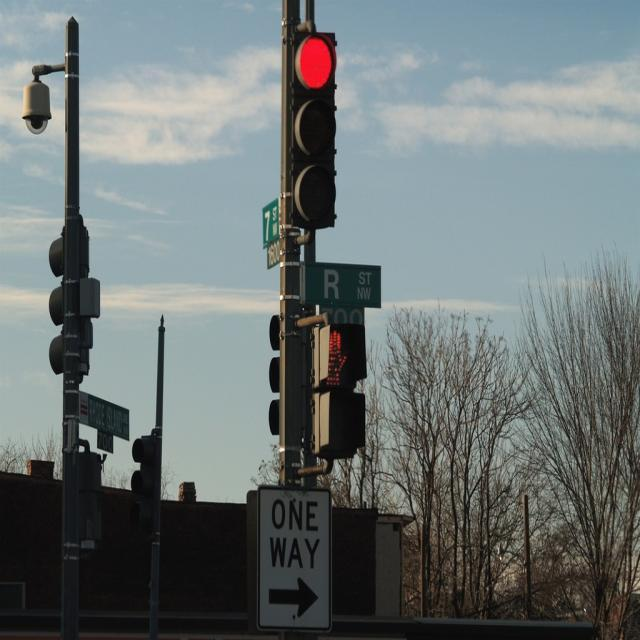off traffic light: (128, 439, 158, 527)
traffic light: (289, 28, 338, 228), (312, 324, 369, 460)
